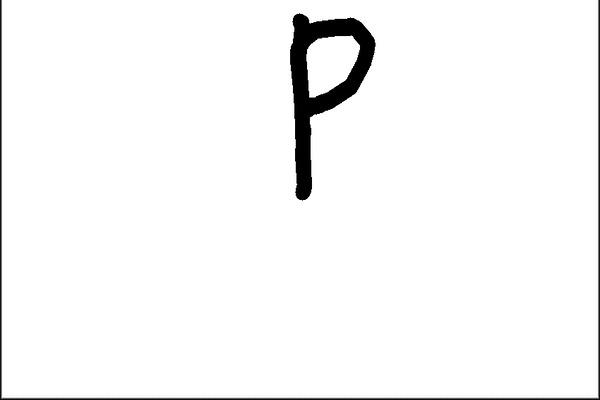P: (269, 10, 388, 209)
